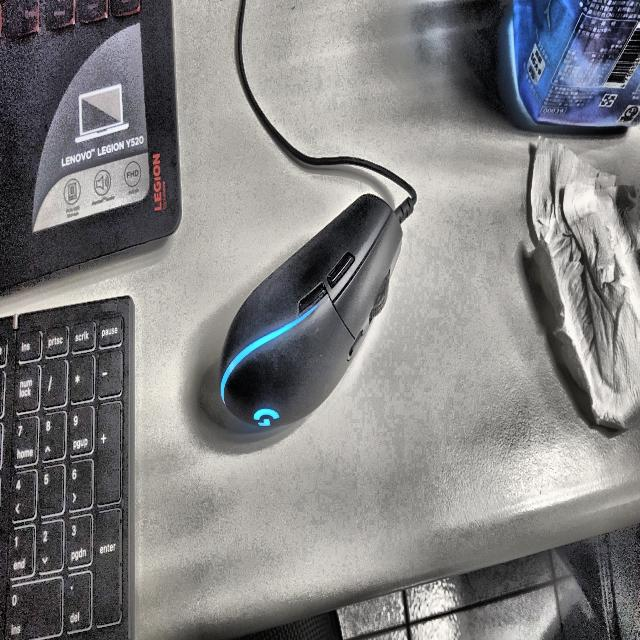Keyboard: (0, 297, 135, 640)
Laptop: (0, 0, 181, 293)
MOUSE: (219, 195, 402, 426)
